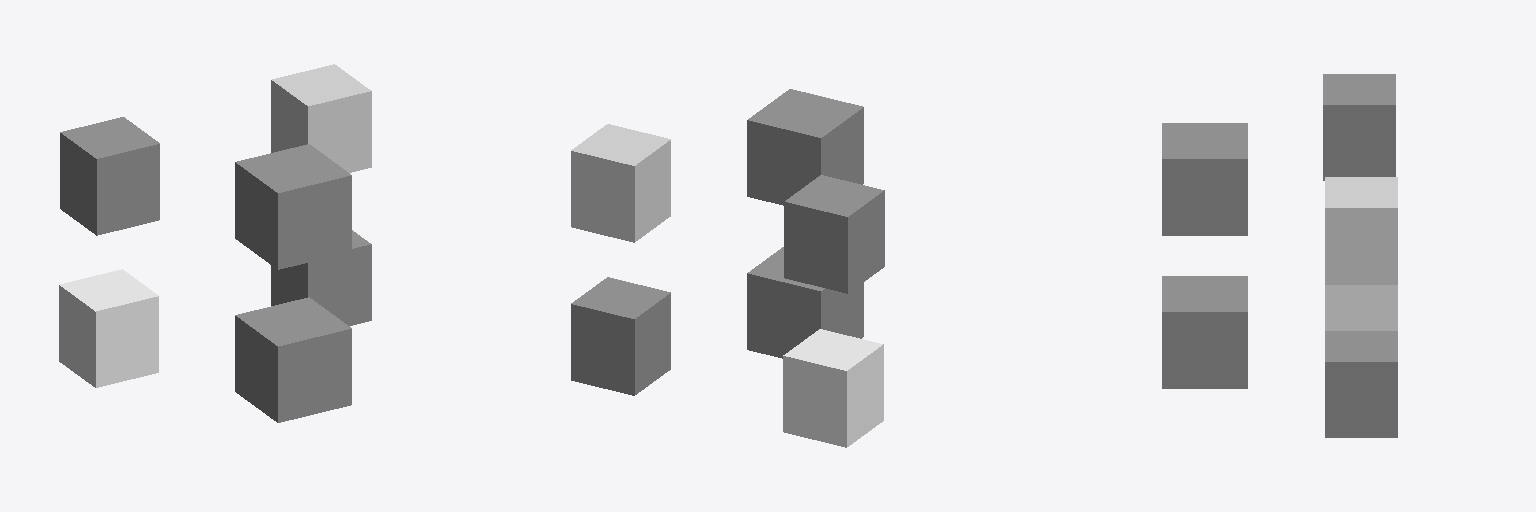
The picture shows the model from 3 angles: view 1: azimuth 30°, elevation 25°; view 2: azimuth 150°, elevation 25°; view 3: azimuth 270°, elevation 25°; orthographic projection.
Parts seen in each view (by area): view 1: Cube.005_Cube.039, Cube.008_Cube.042, Cube.006_Cube.040, Cube.007_Cube.041, Cube.009_Cube.043, Cube.004_Cube.038; view 2: Cube.008_Cube.042, Cube.007_Cube.041, Cube.006_Cube.040, Cube.004_Cube.038, Cube.009_Cube.043, Cube.005_Cube.039; view 3: Cube.005_Cube.039, Cube.008_Cube.042, Cube.009_Cube.043, Cube.004_Cube.038, Cube.007_Cube.041, Cube.006_Cube.040.
Boxes of the visible parts, x1=… form: Cube.005_Cube.039: x1=235, y1=297, x2=351, y2=422; Cube.008_Cube.042: x1=235, y1=144, x2=351, y2=269; Cube.006_Cube.040: x1=59, y1=269, x2=158, y2=387; Cube.007_Cube.041: x1=60, y1=117, x2=159, y2=235; Cube.009_Cube.043: x1=271, y1=64, x2=371, y2=172; Cube.004_Cube.038: x1=271, y1=230, x2=371, y2=325; Cube.008_Cube.042: x1=747, y1=89, x2=863, y2=205; Cube.007_Cube.041: x1=784, y1=175, x2=884, y2=293; Cube.006_Cube.040: x1=783, y1=329, x2=883, y2=447; Cube.004_Cube.038: x1=571, y1=277, x2=670, y2=395; Cube.009_Cube.043: x1=571, y1=124, x2=670, y2=242; Cube.005_Cube.039: x1=747, y1=247, x2=863, y2=358; Cube.005_Cube.039: x1=1162, y1=276, x2=1247, y2=388; Cube.008_Cube.042: x1=1162, y1=123, x2=1247, y2=235; Cube.009_Cube.043: x1=1325, y1=177, x2=1397, y2=284; Cube.004_Cube.038: x1=1325, y1=331, x2=1397, y2=437; Cube.007_Cube.041: x1=1323, y1=74, x2=1395, y2=180; Cube.006_Cube.040: x1=1325, y1=285, x2=1397, y2=330.
Size of the model in its own units: 5.2 by 4.14 by 3.86.
6 materials, 1 textured.